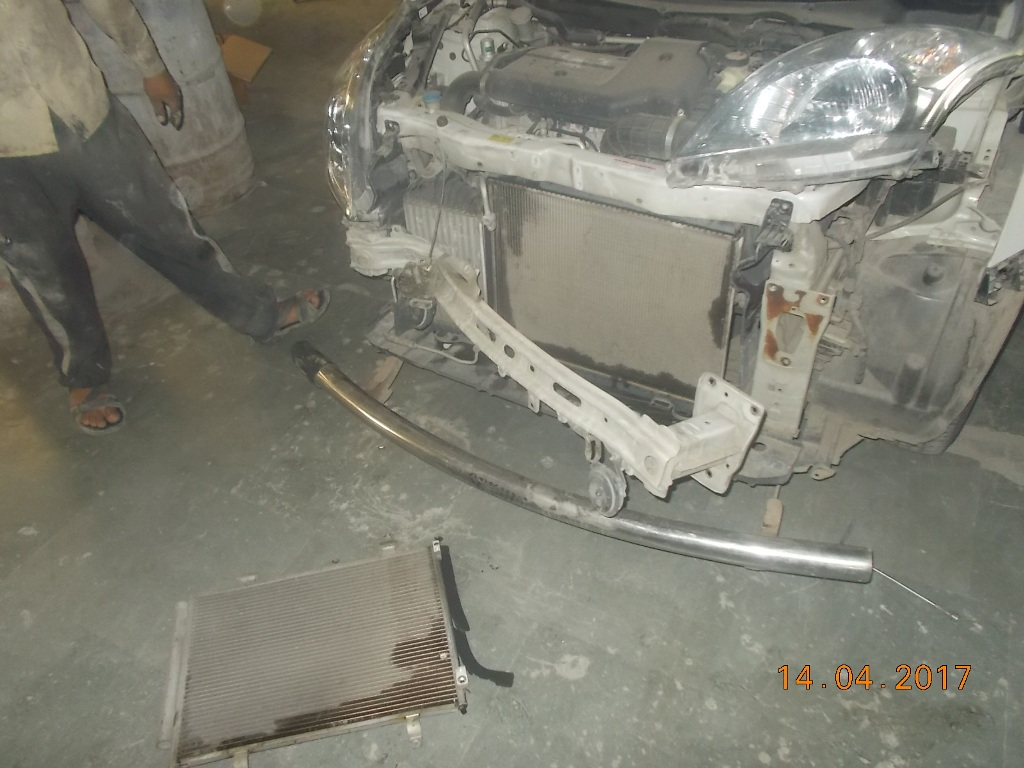Large_tear_or_damage: (319, 70, 1002, 499)
